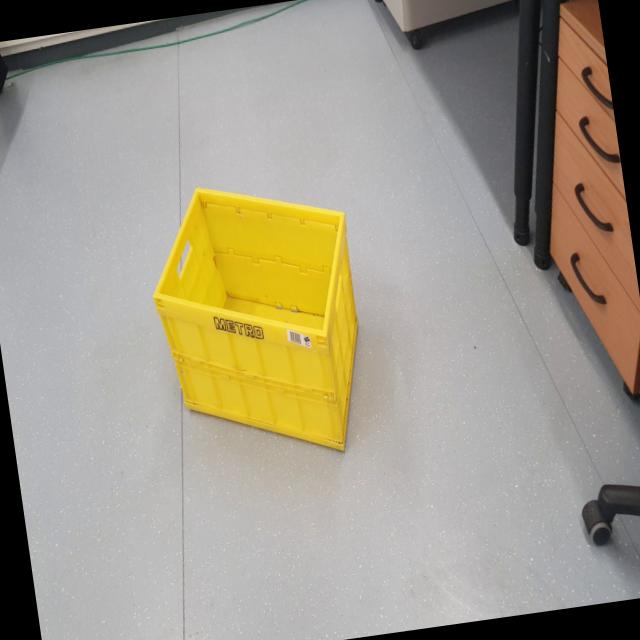box: (128, 162, 388, 499)
